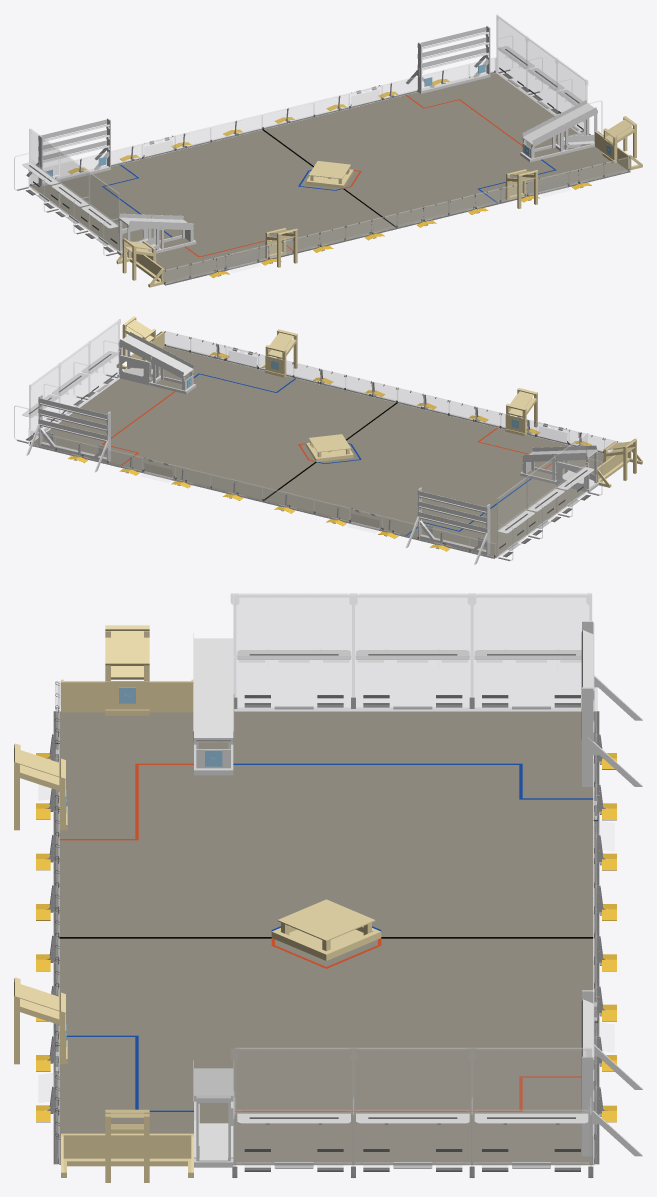
3 renders of one model, top to bottom at view 1: azimuth 30°, elevation 25°; view 2: azimuth 150°, elevation 25°; view 3: azimuth 270°, elevation 25°, orthographic. The views are drawn at different scales.
Visible parts, largest first — view 1: carpet, FE-00012: Driver Station Acrylic (×6), FE-00010: Field Plastic "C" (×8), FE-00009: Field Plastic "B" (×5), FE-00004-01: 3/16" Diamond Plate Sheet, 6061 Aluminum (×3), FE-00044: Field Plastic "G" (×2), TABLE Top; view 2: carpet, FE-00010: Field Plastic "C" (×8), FE-00012: Driver Station Acrylic (×6), FE-00004-01: 3/16" Diamond Plate Sheet, 6061 Aluminum (×5), FE-00009: Field Plastic "B" (×4), FE-00044: Field Plastic "G" (×2), id204 (×2), id304 (×2), id189 (×2), TABLE Top, id647, id888; view 3: carpet, FE-00012: Driver Station Acrylic (×6), FE-00004-01: 3/16" Diamond Plate Sheet, 6061 Aluminum (×6), FE-00004-06: 1/4" Sheet, 6061 Aluminum (×6), Part 2 (×2), TABLE Top, id490, id908, id617, Part 13, Part 3, Part 7 (+4 smaller).
Part boxes in pixels (x1,y1,x2,y2): carpet: [30, 73, 627, 283]; FE-00012: Driver Station Acrylic (×6): [31, 16, 585, 222]; FE-00010: Field Plastic "C" (×8): [56, 65, 499, 251]; FE-00009: Field Plastic "B" (×5): [111, 78, 603, 183]; FE-00004-01: 3/16" Diamond Plate Sheet, 6061 Aluminum (×3): [90, 47, 555, 249]; FE-00044: Field Plastic "G" (×2): [143, 86, 381, 157]; TABLE Top: [308, 161, 350, 179]; carpet: [33, 346, 603, 557]; FE-00010: Field Plastic "C" (×8): [56, 364, 499, 550]; FE-00012: Driver Station Acrylic (×6): [31, 321, 585, 527]; FE-00004-01: 3/16" Diamond Plate Sheet, 6061 Aluminum (×5): [60, 352, 585, 553]; FE-00009: Field Plastic "B" (×4): [108, 339, 348, 519]; FE-00044: Field Plastic "G" (×2): [226, 346, 567, 444]; id204 (×2): [38, 408, 487, 522]; id304 (×2): [38, 419, 487, 532]; id189 (×2): [38, 398, 487, 511]; TABLE Top: [308, 434, 351, 452]; id647: [120, 355, 149, 385]; id888: [557, 462, 586, 491]; carpet: [59, 711, 593, 1164]; FE-00012: Driver Station Acrylic (×6): [235, 595, 590, 1109]; FE-00004-01: 3/16" Diamond Plate Sheet, 6061 Aluminum (×6): [235, 658, 588, 1161]; FE-00004-06: 1/4" Sheet, 6061 Aluminum (×6): [237, 650, 588, 1123]; Part 2 (×2): [61, 682, 193, 1158]; TABLE Top: [277, 899, 375, 941]; id490: [194, 688, 233, 738]; id908: [194, 638, 233, 688]; id617: [194, 1123, 233, 1161]; Part 13: [105, 681, 149, 709]; Part 3: [63, 1158, 191, 1166]; Part 7: [111, 631, 143, 665].
Bounding box in the file's own units: 17.87 × 1.99 × 9.69.
